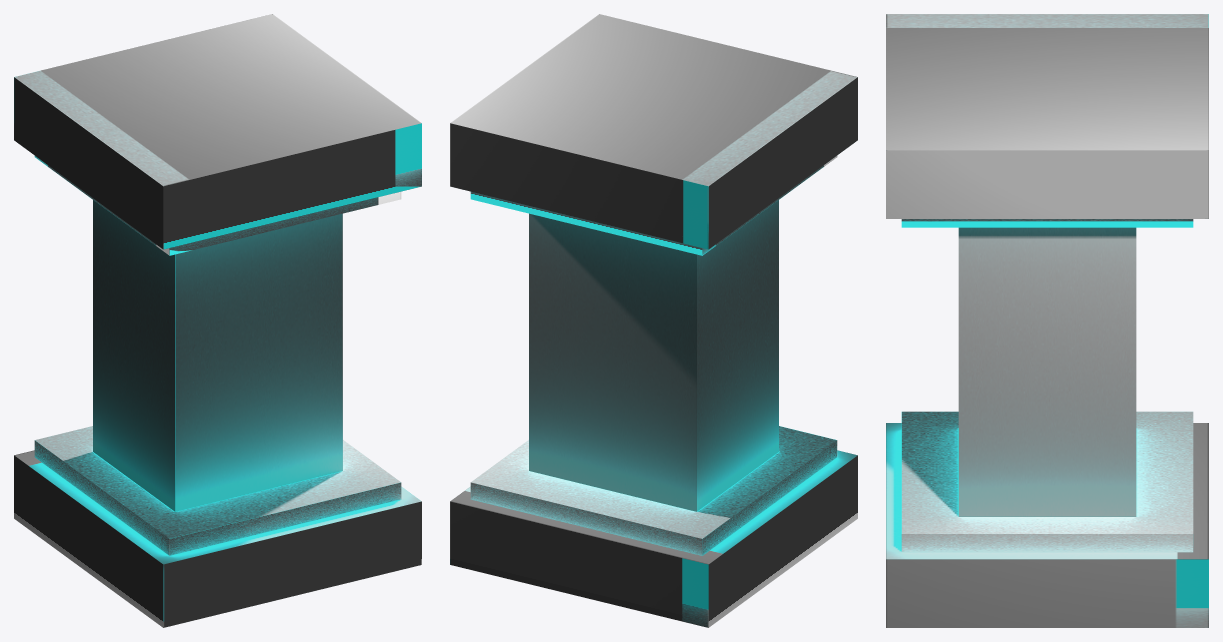
Rendered from pedestal.glb.
3 views of the same model, side by side, from view 1: azimuth 30°, elevation 25°; view 2: azimuth 150°, elevation 25°; view 3: azimuth 270°, elevation 25° (orthographic). The views are drawn at different scales.
Parts seen in each view (by area): view 1: Cube.001, Cube.003, Pedestal, Cube.004, Cube; view 2: Cube.001, Cube.003, Pedestal, Cube.004, Cube; view 3: Cube.003, Cube.001, Pedestal, Cube.004, Cube.
Part boxes in pixels (<box>): Cube.001: <box>93,200,342,511</box>; Cube.003: <box>14,14,421,249</box>; Pedestal: <box>14,450,421,627</box>; Cube.004: <box>34,426,401,555</box>; Cube: <box>34,156,401,255</box>; Cube.001: <box>529,200,778,511</box>; Cube.003: <box>450,14,857,249</box>; Pedestal: <box>450,450,857,627</box>; Cube.004: <box>470,426,837,555</box>; Cube: <box>470,156,837,255</box>; Cube.003: <box>886,14,1208,218</box>; Cube.001: <box>958,227,1136,516</box>; Pedestal: <box>886,423,1208,627</box>; Cube.004: <box>901,411,1193,552</box>; Cube: <box>901,219,1193,227</box>.
Size of the model in its own units: 1.82 by 2.96 by 1.82.
Materials: 5 (5 with a texture image).
